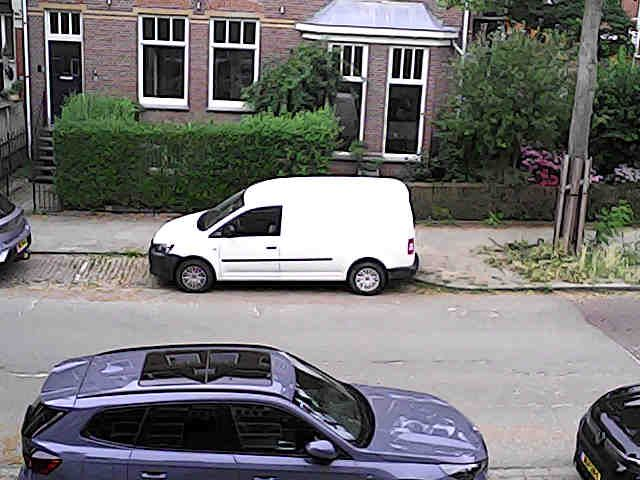suv: (19, 344, 487, 479), (574, 385, 640, 480), (0, 194, 30, 266)
whitevan: (149, 176, 417, 294)
